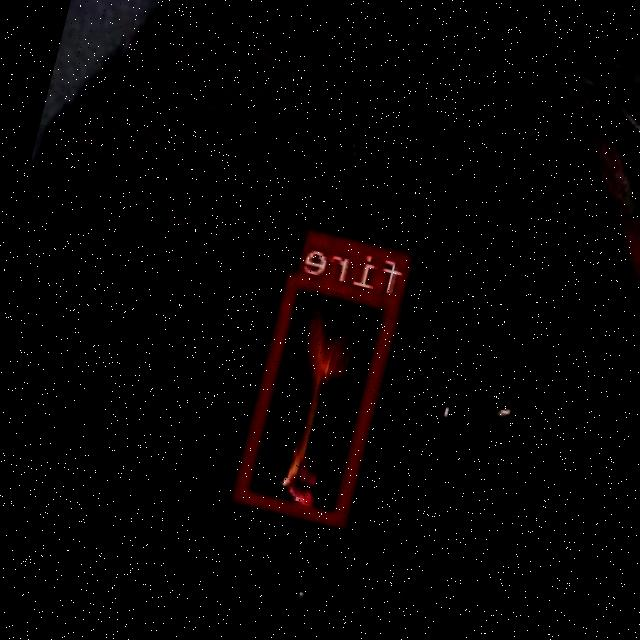fire: (234, 270, 404, 526)
